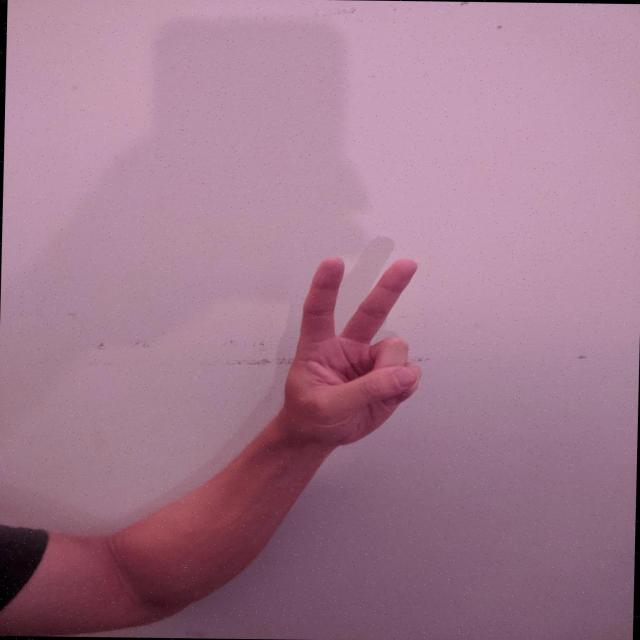V: (277, 253, 431, 453)
